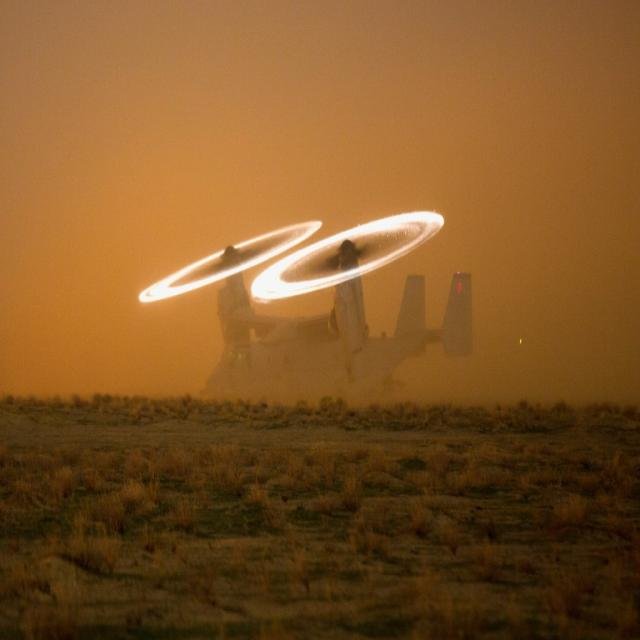MIL_Plane: (138, 211, 473, 403)
